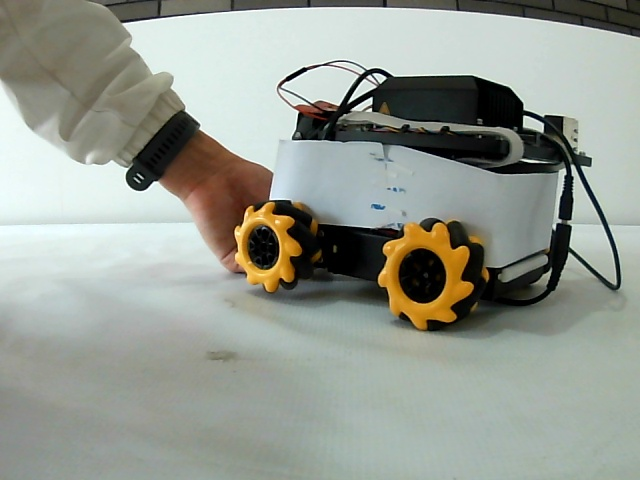car: (229, 70, 578, 337)
paper: (282, 146, 555, 235)
